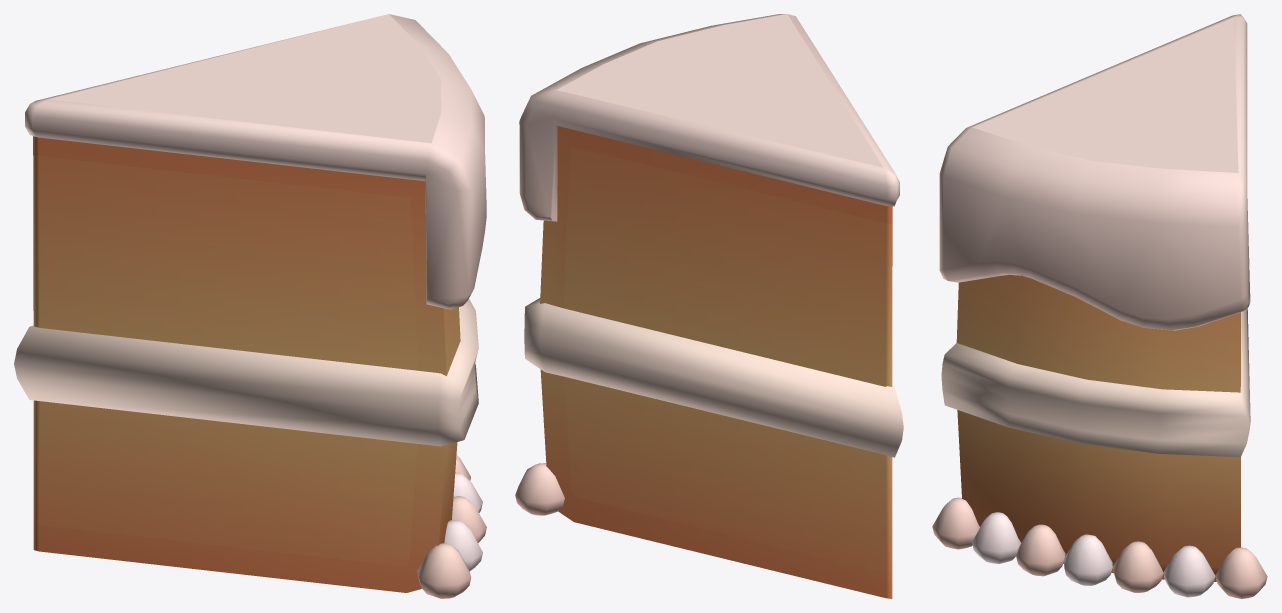
The model's file is Cake_Lemon_Slice_V3_01.fbx.
The picture shows the model from 3 angles, left to right: view 1: azimuth 30°, elevation 25°; view 2: azimuth 150°, elevation 25°; view 3: azimuth 270°, elevation 25°; orthographic projection. The views are drawn at different scales.
Parts seen in each view (by area): view 1: Cake_Lemon_Slice_V3_01; view 2: Cake_Lemon_Slice_V3_01; view 3: Cake_Lemon_Slice_V3_01.
Part boxes in pixels (<box>): Cake_Lemon_Slice_V3_01: <box>14,14,486,598</box>; Cake_Lemon_Slice_V3_01: <box>515,14,903,598</box>; Cake_Lemon_Slice_V3_01: <box>932,14,1267,598</box>.
Bounding box in the file's own units: 33.88 × 35.55 × 25.84.
